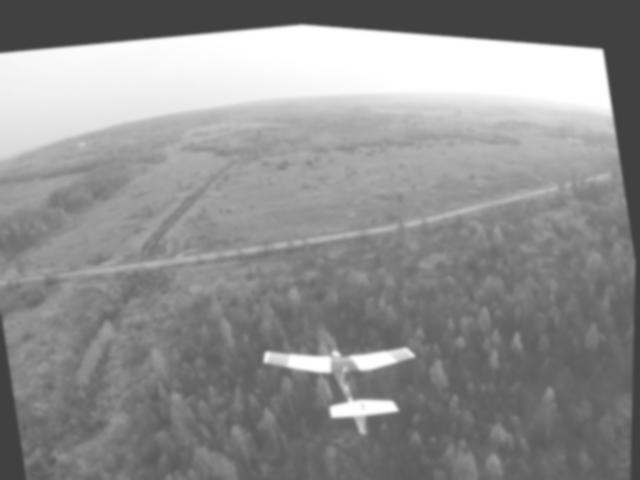hedef: (256, 292, 437, 451)
